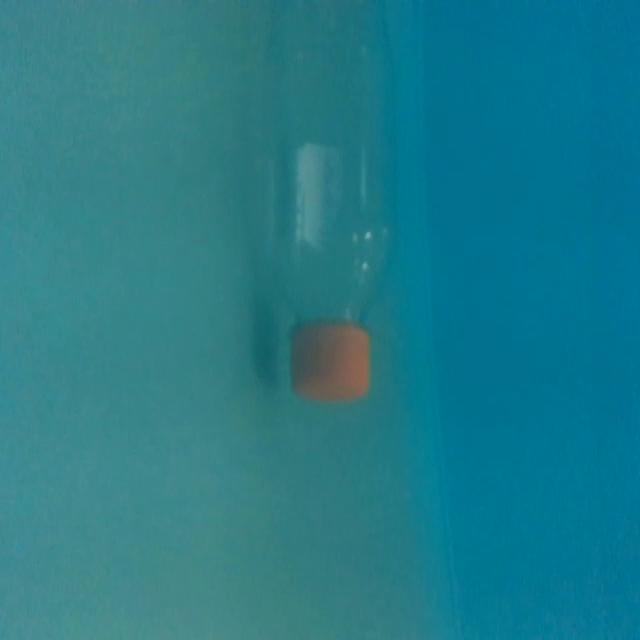plastic bottle: (257, 0, 408, 424)
